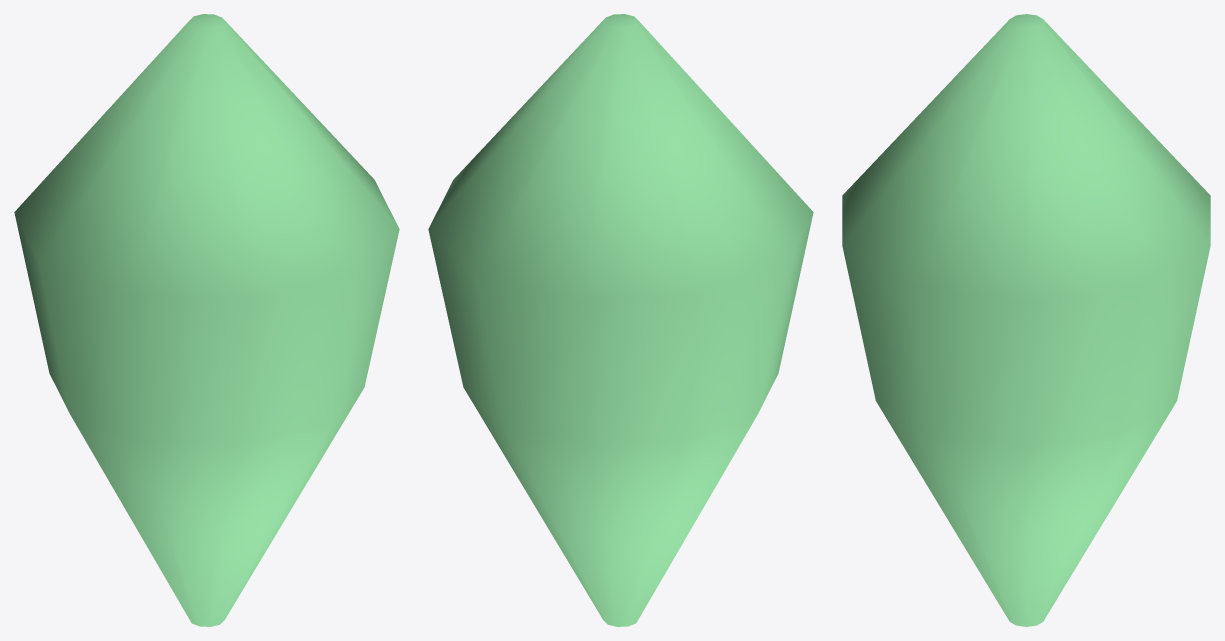
File: 01_leaf.glb
3 renders of one model, left to right at view 1: azimuth 30°, elevation 25°; view 2: azimuth 150°, elevation 25°; view 3: azimuth 270°, elevation 25°, orthographic.
Visible parts, largest first — view 1: green_01_leaf; view 2: green_01_leaf; view 3: green_01_leaf.
Boxes of the visible parts, x1,y1,x2,y2 form: green_01_leaf: (14,14,399,626); green_01_leaf: (428,14,813,626); green_01_leaf: (842,14,1210,626).
Size of the model in its own units: 0.44 by 0.752 by 0.4185.
